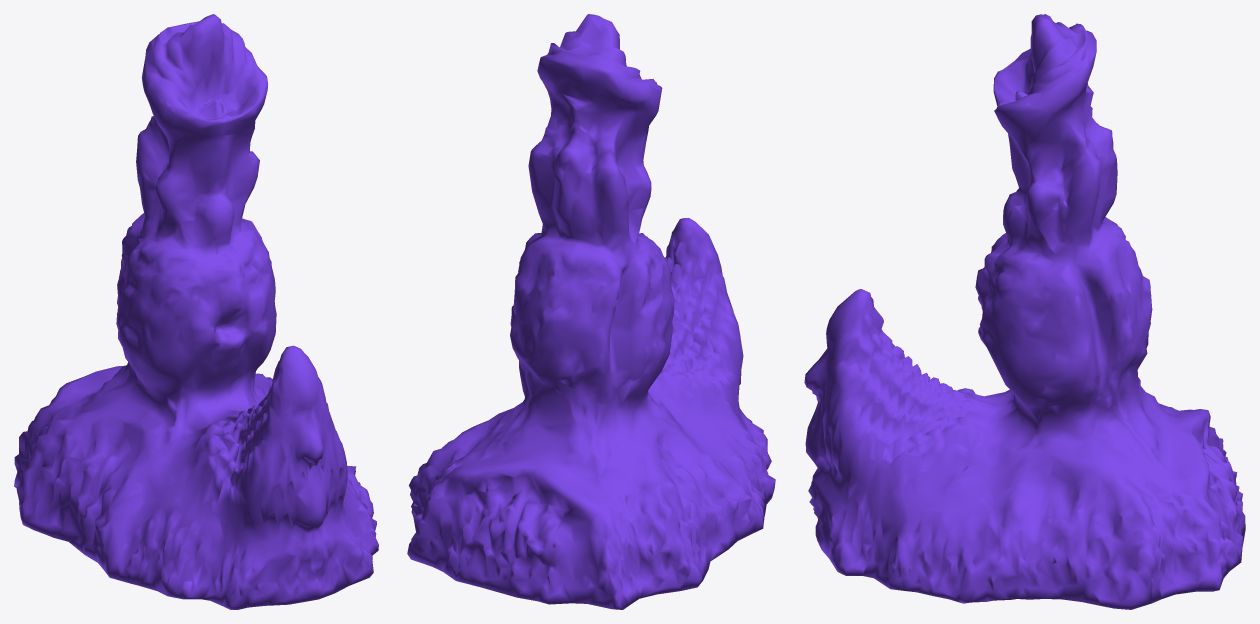
The model's file is small-flat-ar.glb.
The picture shows the model from 3 angles, left to right: view 1: azimuth 30°, elevation 25°; view 2: azimuth 150°, elevation 25°; view 3: azimuth 270°, elevation 25°; orthographic projection. The views are drawn at different scales.
Size of the model in its own units: 0.1317 by 0.2224 by 0.1696.
